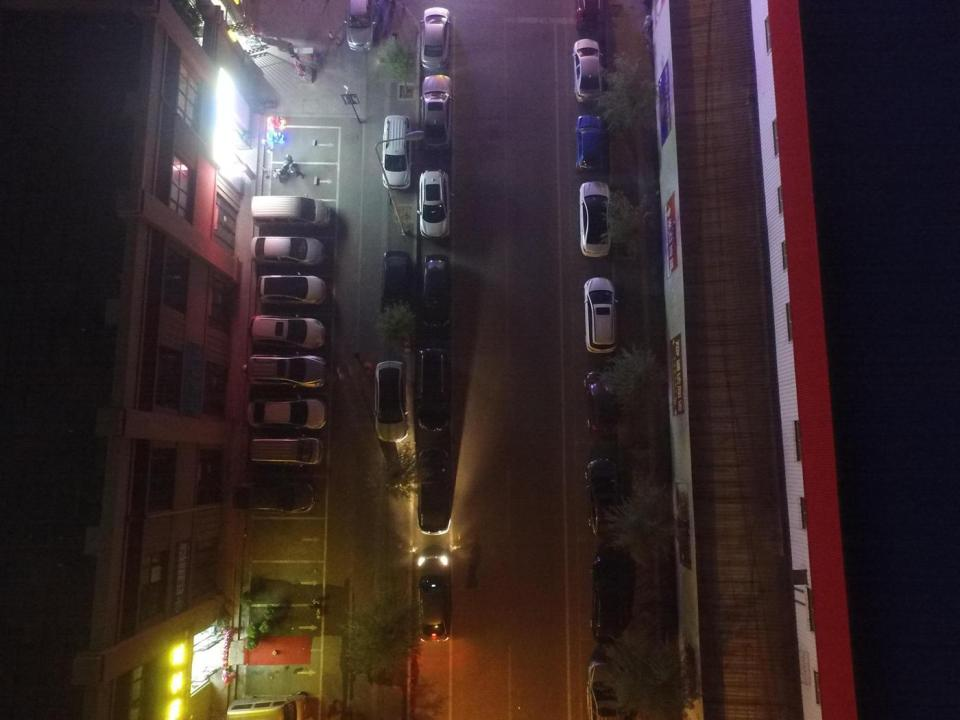car: (585, 459, 623, 540), (590, 556, 623, 643), (418, 448, 451, 535), (374, 361, 408, 442), (248, 314, 325, 349), (236, 481, 316, 514), (247, 395, 326, 428), (420, 74, 454, 148), (579, 180, 611, 256), (417, 170, 451, 240), (421, 254, 453, 328), (251, 235, 324, 267), (256, 272, 325, 305), (380, 250, 411, 320), (417, 575, 449, 642), (572, 38, 603, 102), (584, 371, 616, 432), (420, 6, 450, 69), (576, 0, 602, 30)
van: (242, 351, 325, 388), (252, 193, 330, 228), (416, 349, 449, 431), (583, 277, 618, 354), (227, 691, 310, 720), (250, 435, 322, 467), (586, 659, 624, 719), (382, 115, 411, 189), (344, 0, 375, 51), (575, 115, 603, 170)
